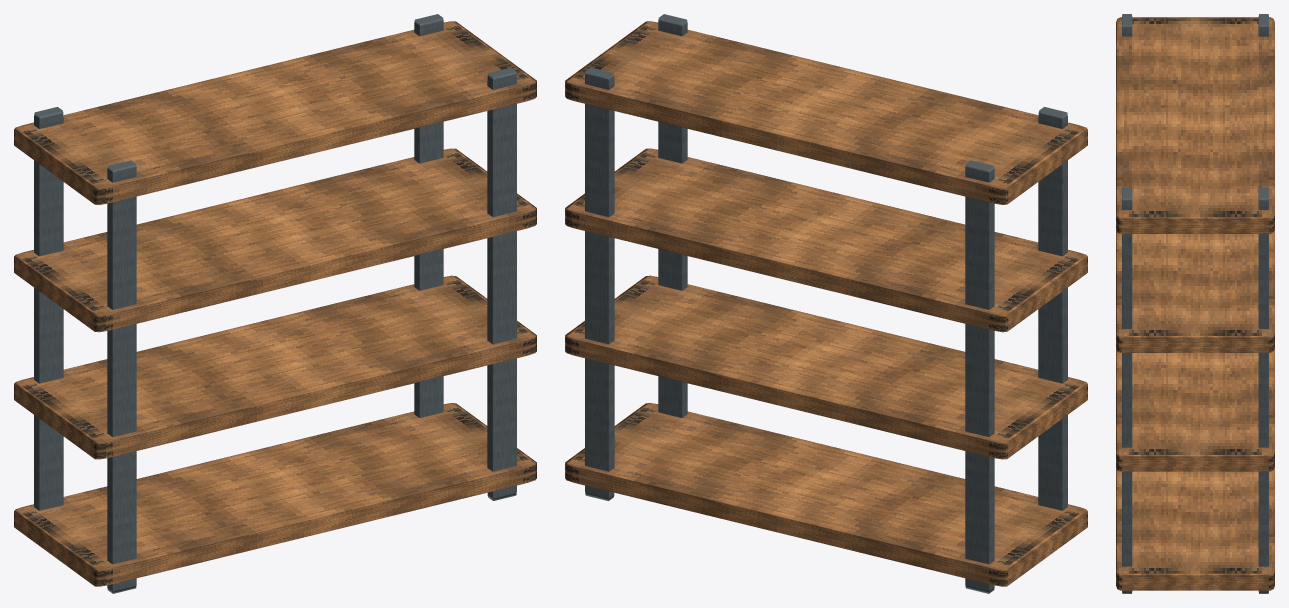
File: open-shelf.glb
The picture shows the model from 3 angles, left to right: view 1: azimuth 30°, elevation 25°; view 2: azimuth 150°, elevation 25°; view 3: azimuth 270°, elevation 25°; orthographic projection. The views are drawn at different scales.
Parts seen in each view (by area): view 1: shelf (×4), leg (×4); view 2: shelf (×4), leg (×4); view 3: shelf (×4), leg (×4).
Boxes of the visible parts, <box> form: shelf (×4): <box>14,21,536,586</box>; leg (×4): <box>34,14,516,593</box>; shelf (×4): <box>565,21,1087,586</box>; leg (×4): <box>585,14,1067,593</box>; shelf (×4): <box>1116,17,1274,590</box>; leg (×4): <box>1122,14,1268,593</box>.
Size of the model in its own units: 0.72 by 0.66 by 0.24.
Materials: 2 (2 with a texture image).
